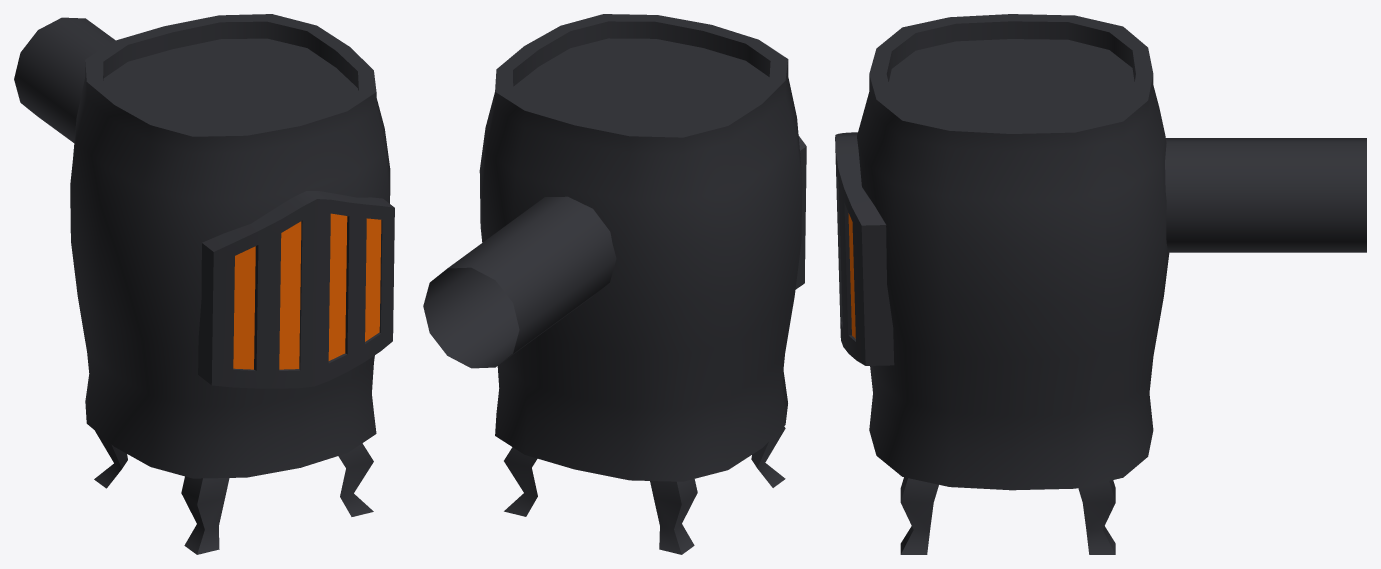
Rendered from Furniture_Stove.fbx.
3 views of the same model, side by side, from view 1: azimuth 30°, elevation 25°; view 2: azimuth 150°, elevation 25°; view 3: azimuth 270°, elevation 25° (orthographic). The views are drawn at different scales.
Parts seen in each view (by area): view 1: Stove; view 2: Stove; view 3: Stove.
Part boxes in pixels (left/top/right/bottom): Stove: left=14, top=14, right=394, bottom=554; Stove: left=423, top=14, right=806, bottom=554; Stove: left=835, top=14, right=1366, bottom=554.
Bounding box in the file's own units: 171 × 257 × 285.
